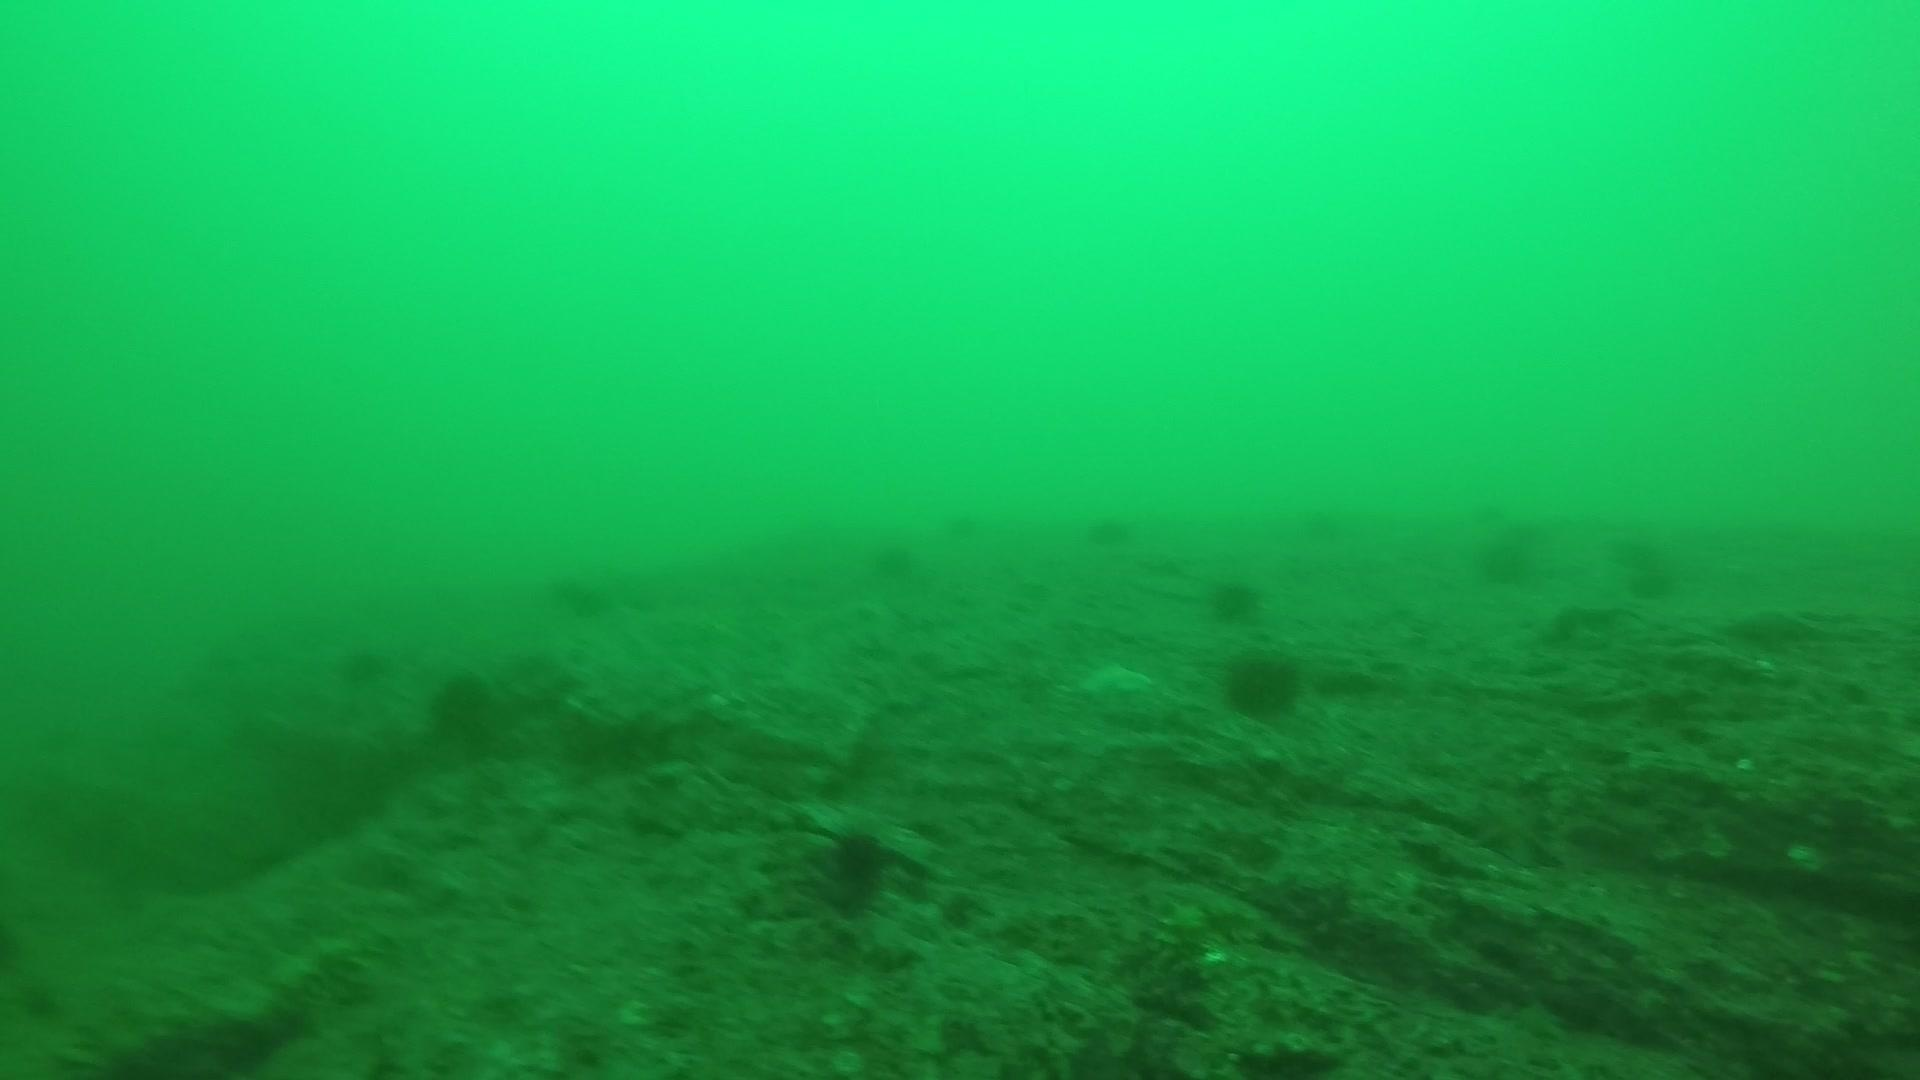echinus: (808, 818, 905, 914), (1217, 644, 1308, 725), (423, 665, 504, 746), (1610, 527, 1683, 603), (1470, 520, 1544, 589), (1073, 498, 1142, 559), (1200, 567, 1269, 626), (866, 539, 918, 583), (563, 578, 611, 617), (939, 498, 976, 533), (339, 645, 376, 679)
starfish: (1068, 655, 1158, 705)
